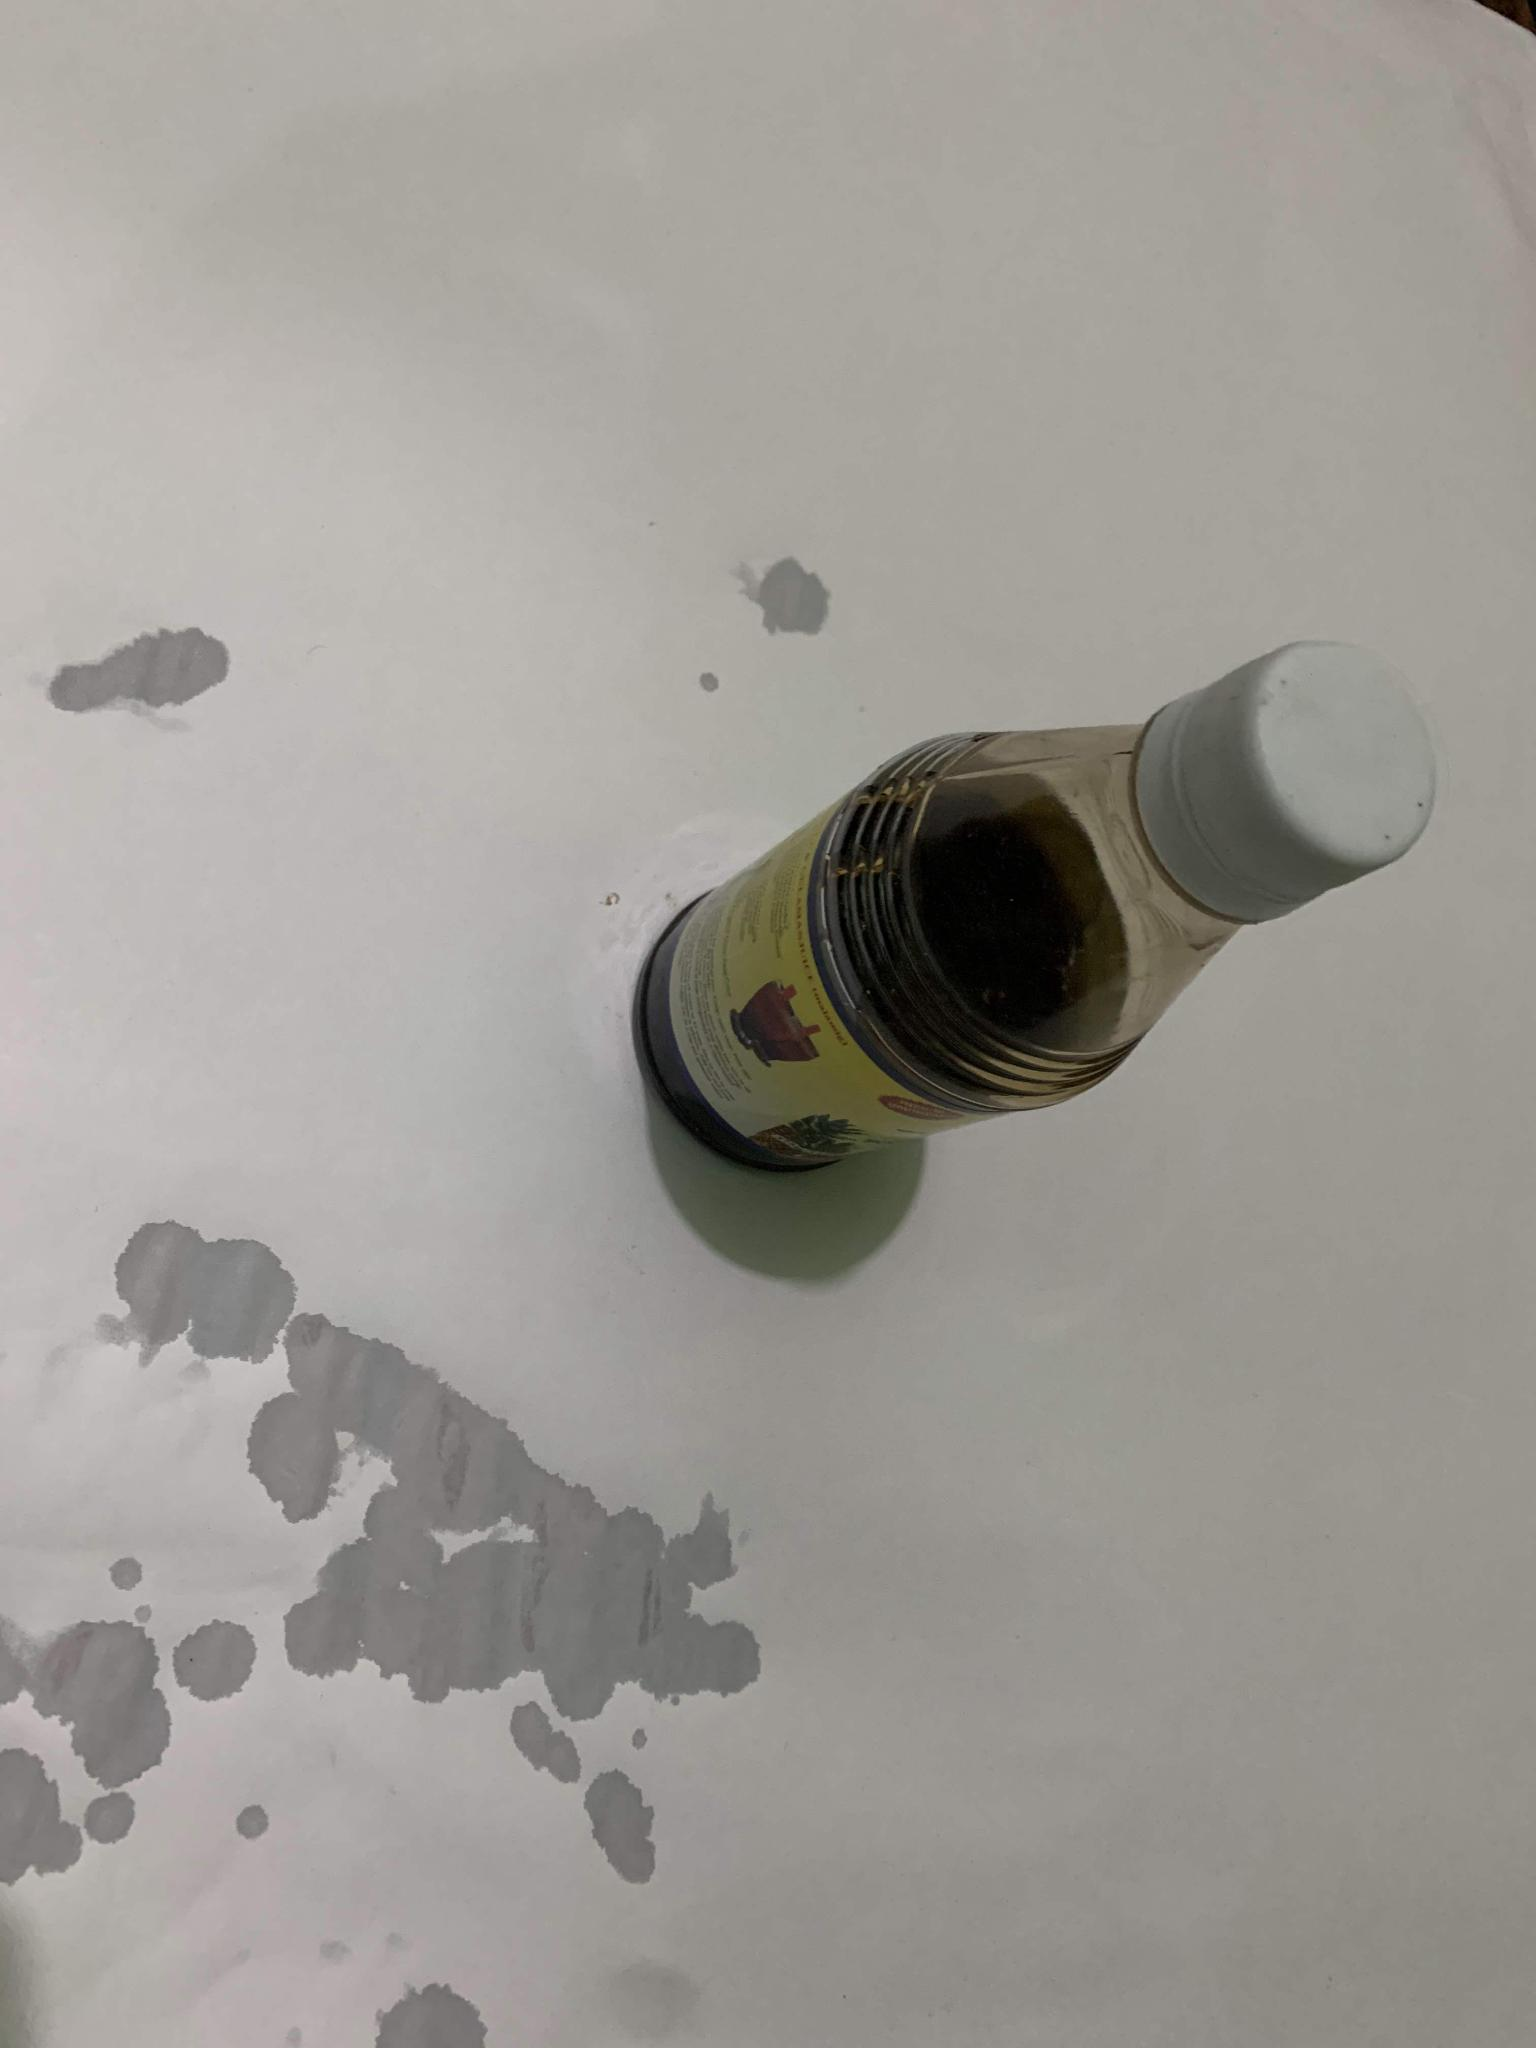bottle: (600, 626, 1458, 1178)
